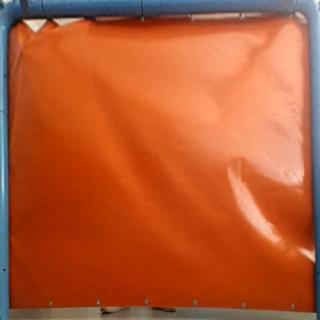Hit-hRxx: (16, 40, 28, 60)
